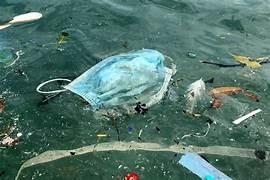Mask: (64, 49, 172, 108)
